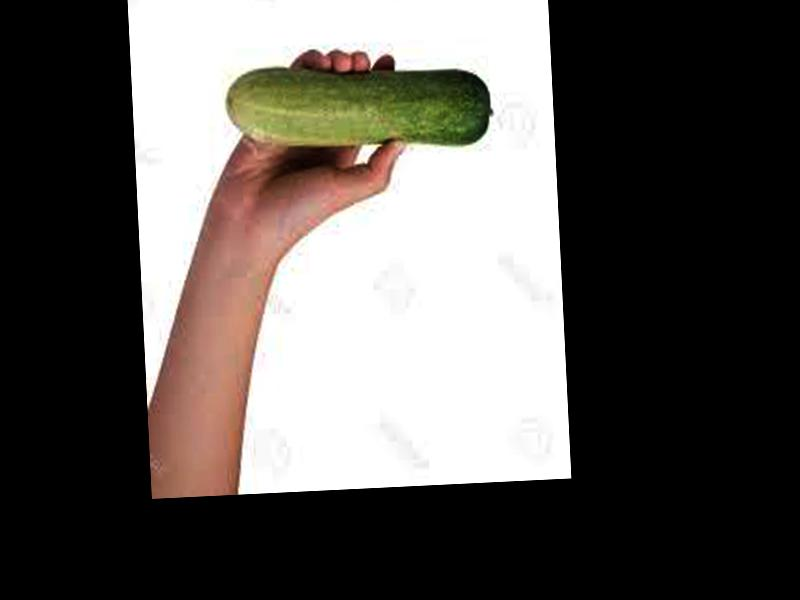Cucumber: (223, 60, 495, 161)
